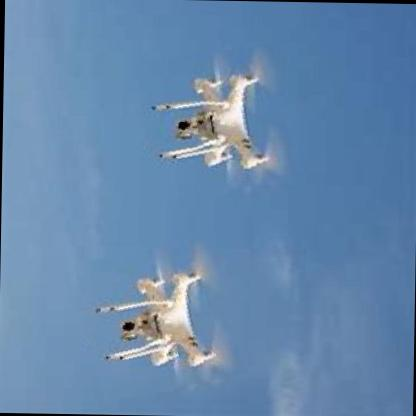drone: (78, 238, 241, 398), (138, 43, 299, 197)
